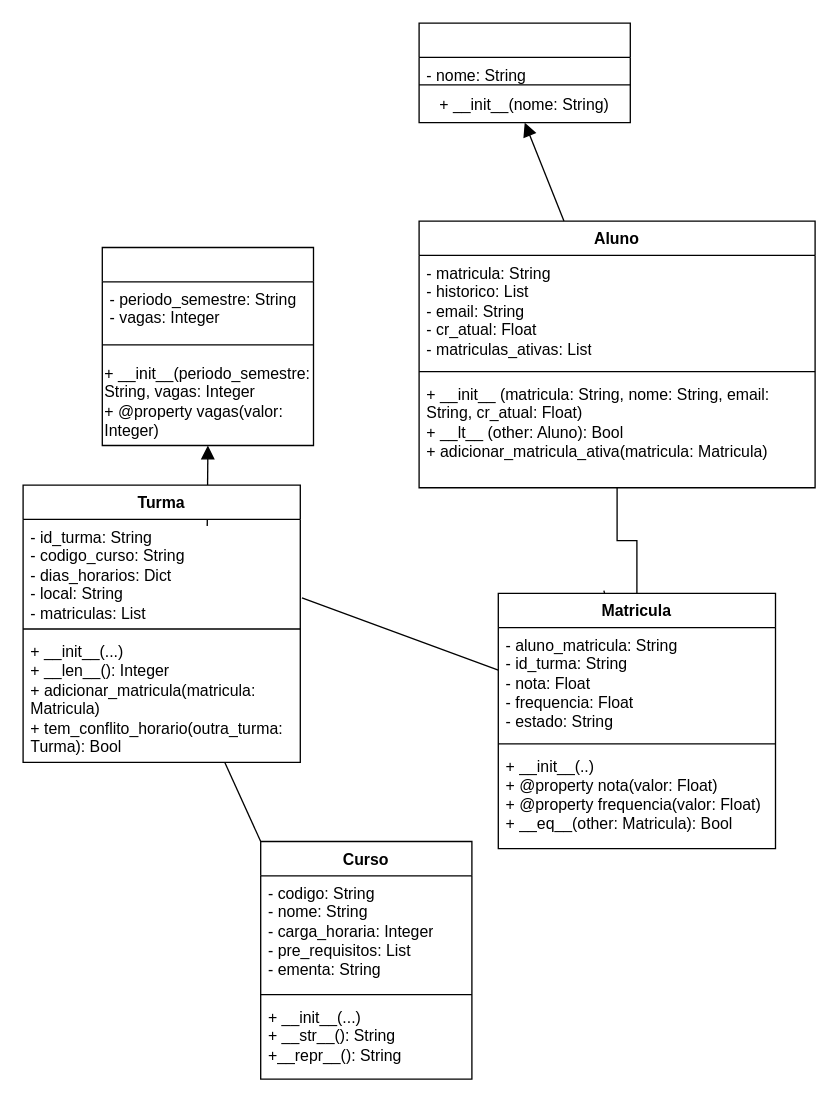
Some shapes in this 838 by 1106 pixel diagram are drawn without their labels. Each missing label, with the box of its shape:
Oferta: (101, 246, 314, 446)
Pessoa: (418, 22, 630, 123)
